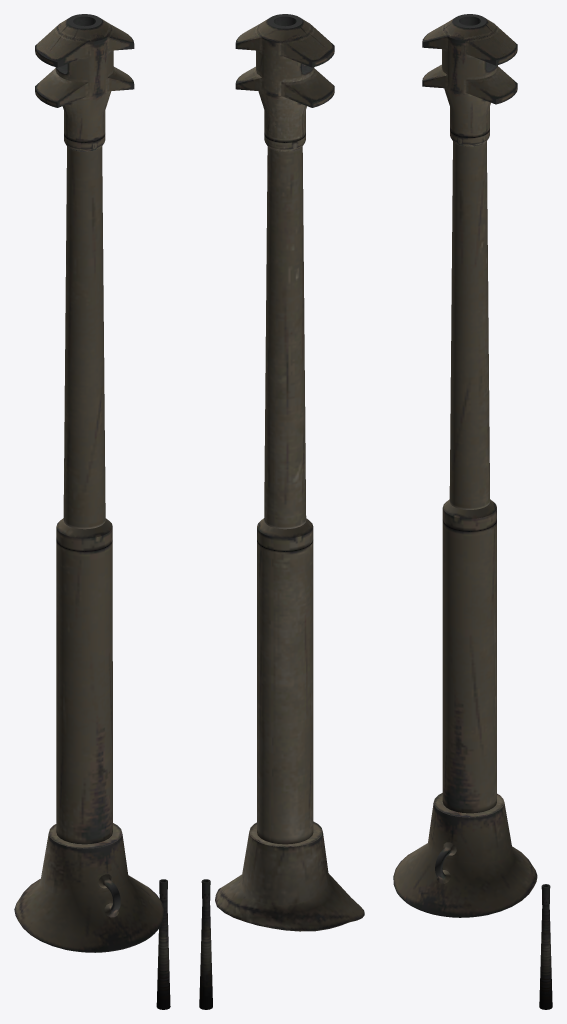
The model's file is Gun_02.glb.
The picture shows the model from 3 angles, left to right: view 1: azimuth 30°, elevation 25°; view 2: azimuth 150°, elevation 25°; view 3: azimuth 330°, elevation 25°; orthographic projection. The views are drawn at different scales.
Visible parts, largest first — view 1: set_0_group_0; view 2: set_0_group_0; view 3: set_0_group_0.
Part boxes in pixels (bbox=[...]): set_0_group_0: bbox=[14, 14, 170, 1009]; set_0_group_0: bbox=[199, 14, 364, 1009]; set_0_group_0: bbox=[393, 14, 552, 1009].
Bounding box in the file's own units: 0.807 × 5.11 × 0.6058.
1 material, 1 textured.
